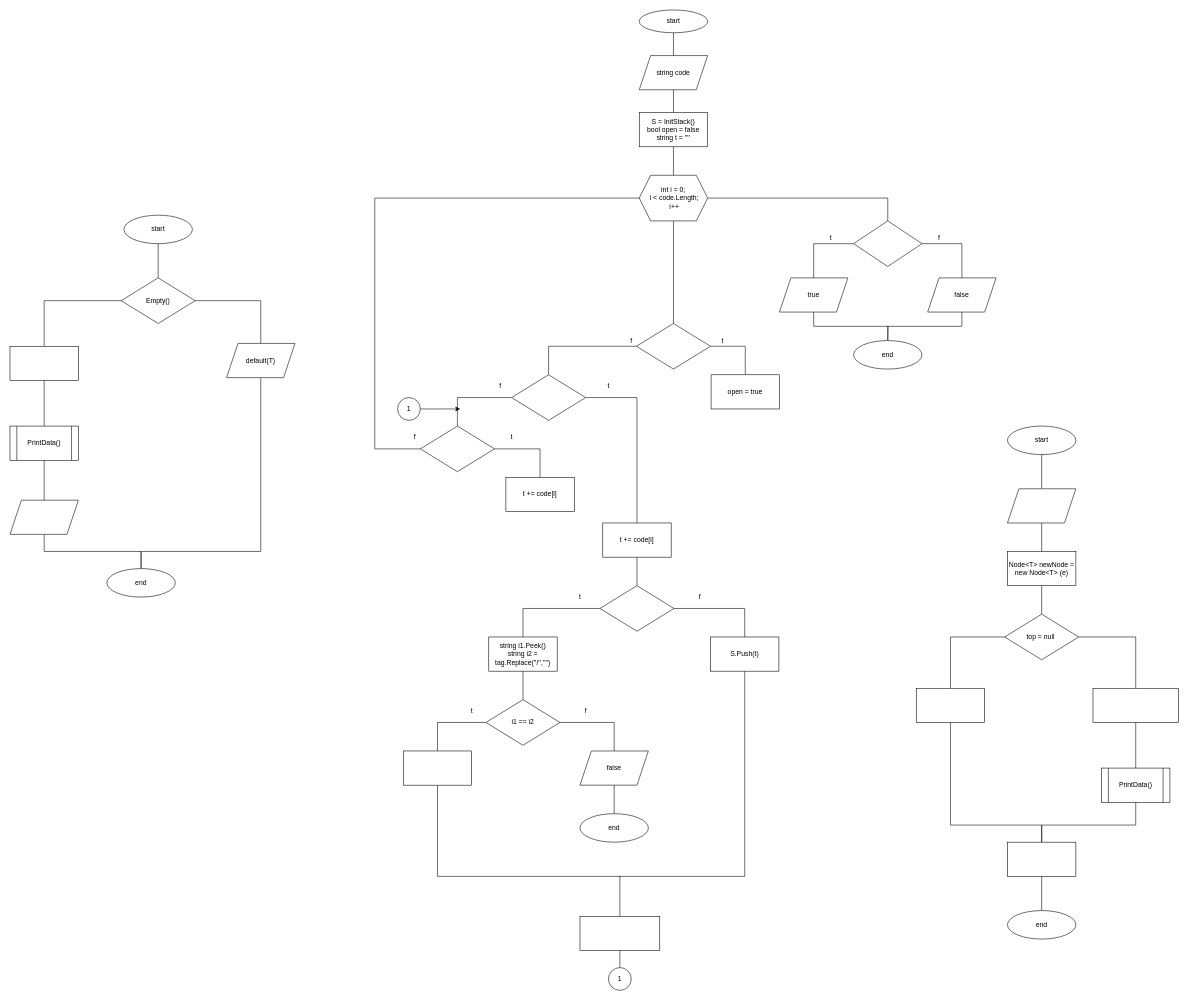
Image size: 1188x1000. Some labels were removed from this diagram. The box of each missing label's shape, as (x1, y1, x2, y2) in pixels:
code[i] == '<': (636, 323, 711, 369)
code[i] == '>': (511, 374, 586, 420)
newNode.nextNode = top top = newNode: (1092, 688, 1178, 722)
open: (420, 426, 494, 472)
S.Empty(): (853, 220, 922, 266)
S.Pop(): (403, 750, 472, 785)
show: (9, 500, 78, 534)
size++: (1007, 842, 1076, 876)
t = '''' open = false: (579, 916, 660, 950)
T show = top.Value top = top.nextNode size--: (9, 346, 78, 380)
T(e): (1007, 488, 1076, 523)
t.Contains(''/''): (599, 585, 674, 631)
top = newNode top.nextNode = null: (916, 688, 985, 722)
